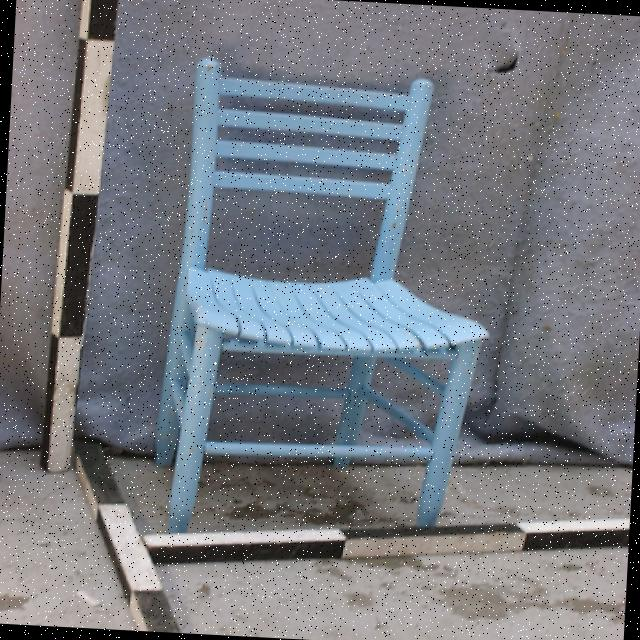Chair: (113, 51, 528, 566)
